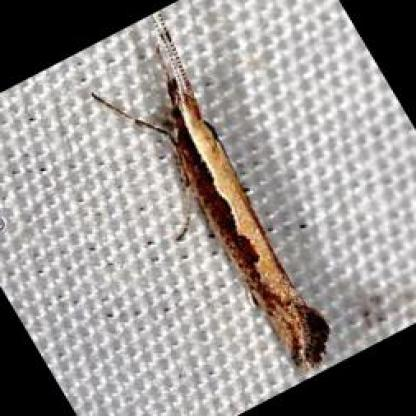plutella: (94, 11, 328, 364)
